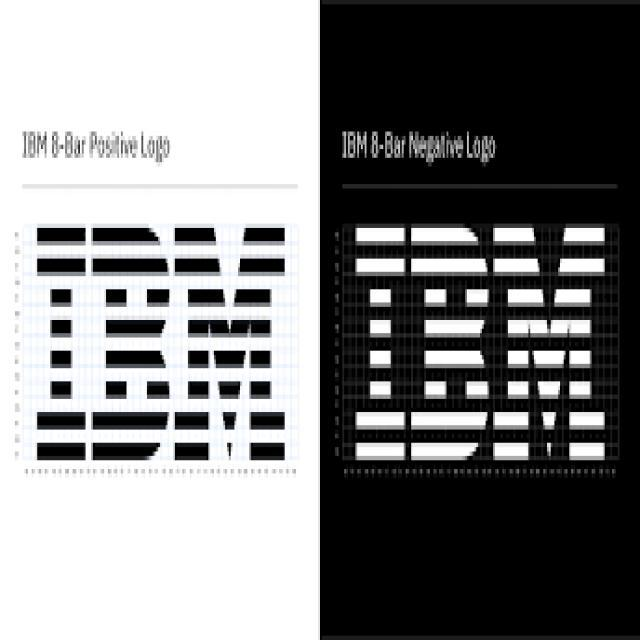ibm: (35, 224, 291, 467), (354, 226, 614, 463)
